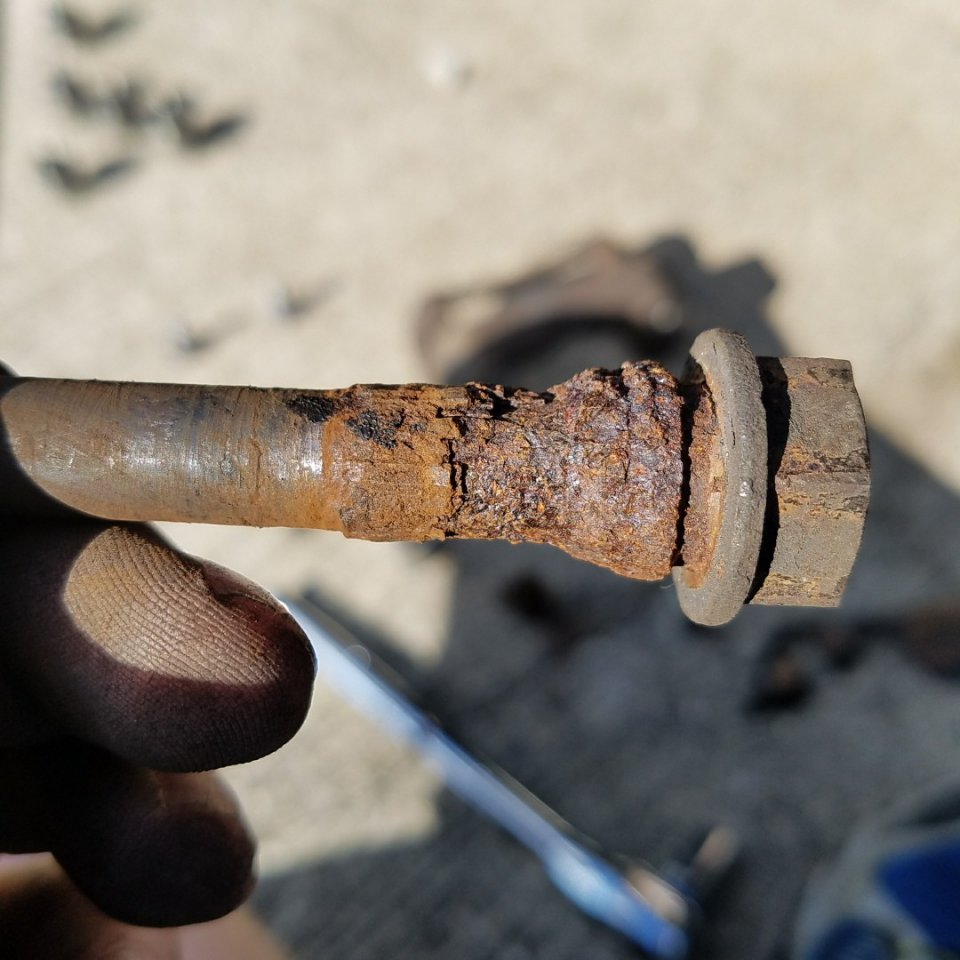Severe: (318, 329, 719, 595)
